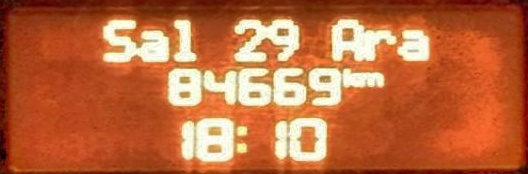0: (288, 116, 326, 162)
1: (270, 117, 288, 161), (177, 117, 195, 160)
2: (231, 15, 264, 64)
4: (202, 66, 236, 105)
6: (272, 65, 307, 107), (235, 66, 269, 107)
8: (197, 115, 236, 163), (166, 65, 202, 106)
9: (265, 17, 302, 62), (307, 65, 341, 107)
X: (102, 16, 137, 62), (330, 16, 363, 61), (171, 16, 198, 63), (139, 27, 170, 63), (362, 26, 393, 60), (397, 28, 428, 61), (233, 122, 250, 155), (341, 66, 361, 89), (361, 69, 384, 88)
